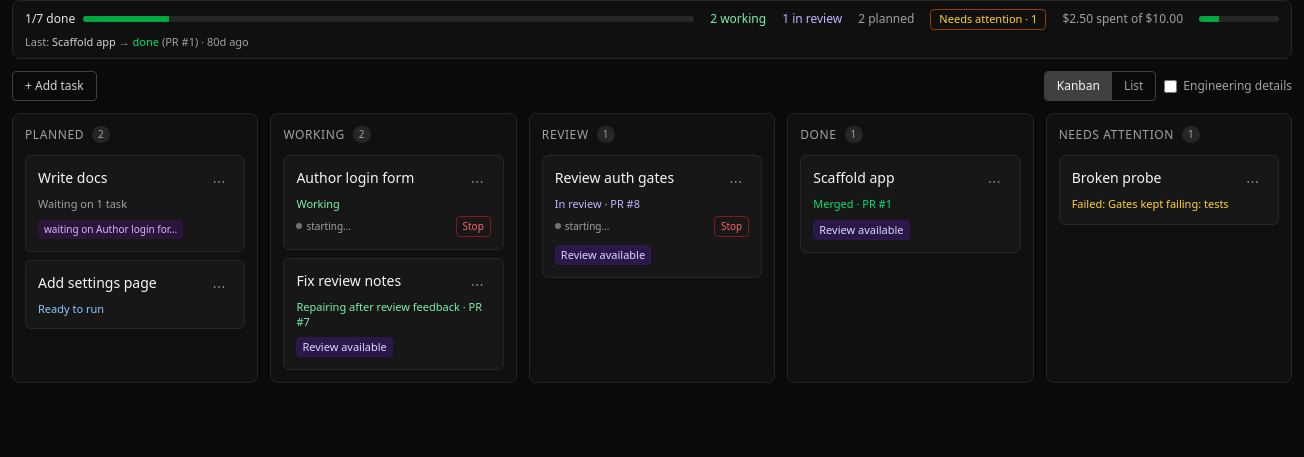
Test: VW04 board groups › toggles engineering details on the cards and remembers the choice
The width and height of the screenshot is (1304, 457).
Expected: the element named "Planned (2)" is shown, [12,113,258,383]
Expected: the text "Attempt 1 · policy 3" is not shown
What coordinates should you click on to do the following:
click the checkbox labelled "Engineering details"
I would click on:
 (1171, 86)
Its box is [1164,80,1177,93].
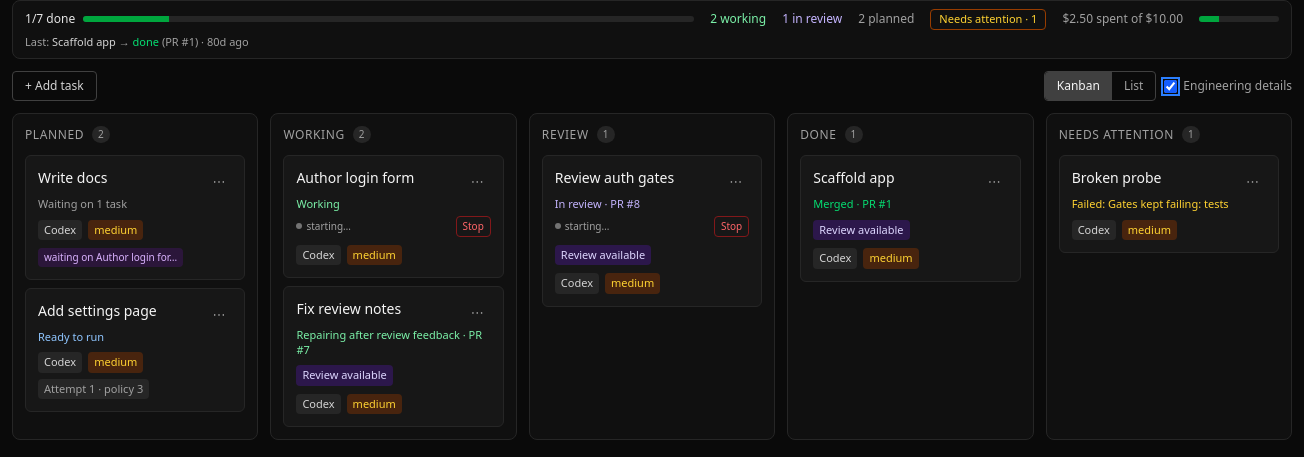
Expected: the text "Attempt 1 · policy 3" is shown, [38,379,149,399]
